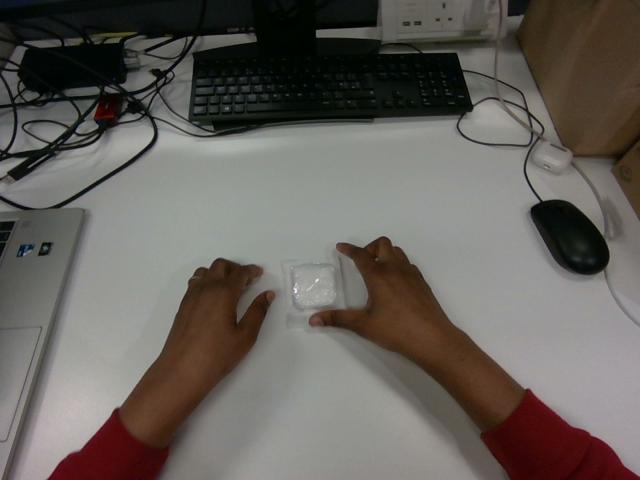gauze: (282, 259, 344, 327), (291, 263, 336, 309)
